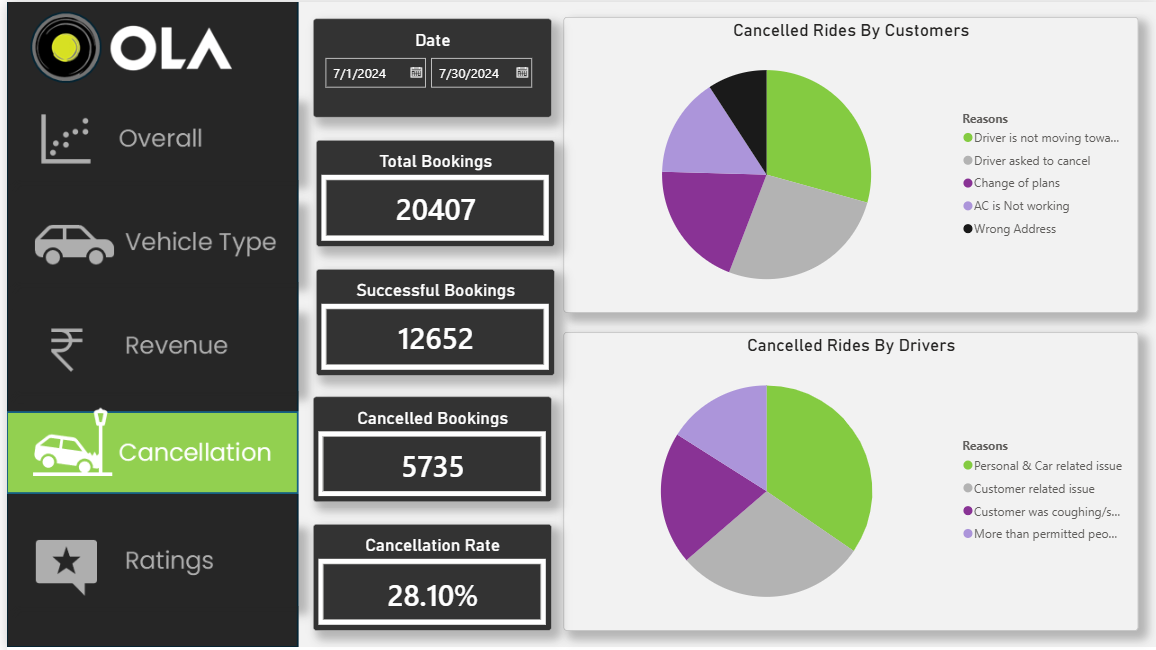

The page's visual inventory and layout, read from the dashboard file:
{"tool":"powerbi","page":{"name":"Cancellation","canvas":[1280,720],"ordinal":3},"visuals":[{"type":"actionButton","box":[0,580.6,324.5,90.7],"z":0},{"type":"actionButton","box":[0,219.5,324.5,90.7],"z":1000},{"type":"actionButton","box":[0,106.6,324.5,90.7],"z":2000},{"type":"actionButton","box":[0,342,324.5,90.7],"z":3000},{"type":"pieChart","title":"Cancelled Rides By Customers","fields":{"Category":["Bookingscsv.Canceled_Rides_by_Customer"],"Y":["CountNonNull(Bookingscsv.Canceled_Rides_by_Customer)"]},"box":[618.3,16.7,638.3,328.3],"z":4000},{"type":"pieChart","title":"Cancelled Rides By Drivers","fields":{"Category":["Bookingscsv.Canceled_Rides_by_Driver"],"Y":["CountNonNull(Bookingscsv.Canceled_Rides_by_Driver)"]},"box":[618.3,366.7,638.3,331.7],"z":5000},{"type":"slicer","title":"Date","fields":{"Values":["Bookingscsv.Date"]},"box":[340,18,265,110],"z":6000},{"type":"cardVisual","title":"Total Bookings","fields":{"Data":["CountNonNull(Bookingscsv.Booking_ID)"]},"box":[343.3,154,265,118.3],"z":7000},{"type":"cardVisual","title":"Cancelled Bookings","fields":{"Data":["CountNonNull(Bookingscsv.Booking_ID)"]},"box":[340,439,265,117],"z":8000},{"type":"cardVisual","title":"Successful Bookings","fields":{"Data":["CountNonNull(Bookingscsv.Booking_ID)"]},"box":[343.3,296,265,118.3],"z":9000},{"type":"cardVisual","title":"Cancellation Rate","fields":{"Data":["Bookingscsv.Cancellation Rate"]},"box":[340,580,265,118.3],"z":10000}]}

Visuals, with their boxes on the page's 1280x720 design canvas (x1, y1, x2, y2). These are canvas units, not pixel positions in the 1156x650 screenshot, which may show the page scaled, cropped or inside an application window:
actionButton: (0,581,324,671)
actionButton: (0,220,324,310)
actionButton: (0,107,324,197)
actionButton: (0,342,324,433)
"Cancelled Rides By Customers" pieChart: (618,17,1257,345)
"Cancelled Rides By Drivers" pieChart: (618,367,1257,698)
"Date" slicer: (340,18,605,128)
"Total Bookings" cardVisual: (343,154,608,272)
"Cancelled Bookings" cardVisual: (340,439,605,556)
"Successful Bookings" cardVisual: (343,296,608,414)
"Cancellation Rate" cardVisual: (340,580,605,698)
